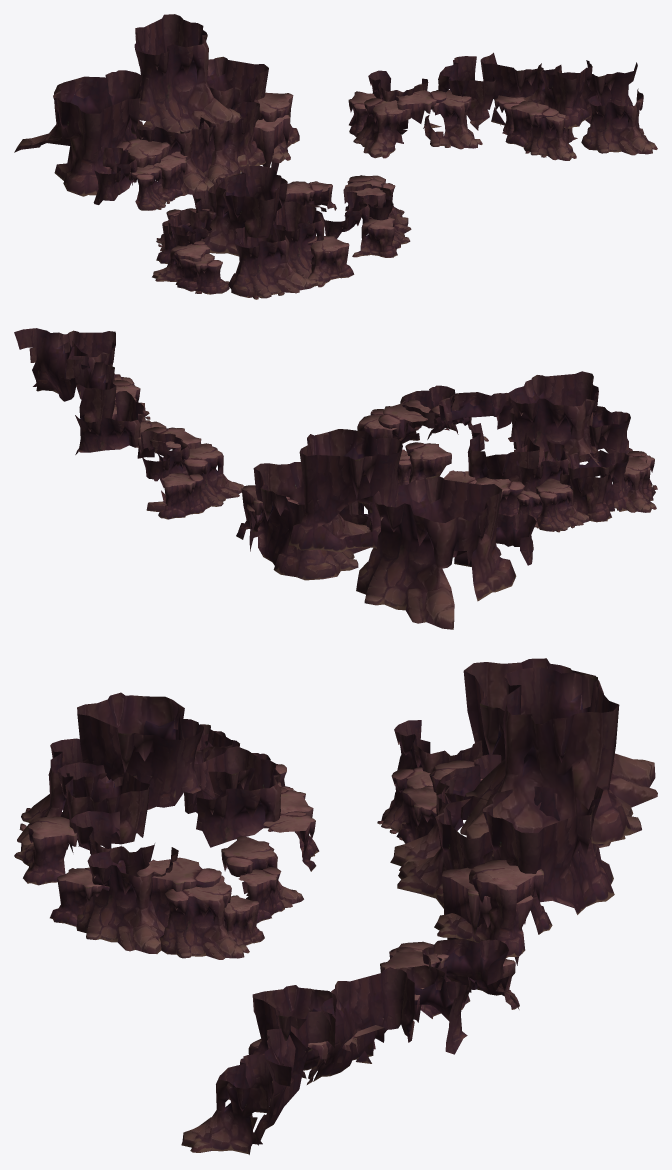
File: area10_shiqaing_02.FBX
The picture shows the model from 3 angles, top to bottom: view 1: azimuth 30°, elevation 25°; view 2: azimuth 150°, elevation 25°; view 3: azimuth 270°, elevation 25°; orthographic projection. The views are drawn at different scales.
Visible parts, largest first — view 1: area10_shiqaing_02; view 2: area10_shiqaing_02; view 3: area10_shiqaing_02.
Part boxes in pixels (x1,y1,x2,y2): area10_shiqaing_02: (14, 14, 657, 299); area10_shiqaing_02: (14, 328, 657, 629); area10_shiqaing_02: (14, 658, 657, 1154).
Bounding box in the file's own units: 11757 × 2955 × 8161.
